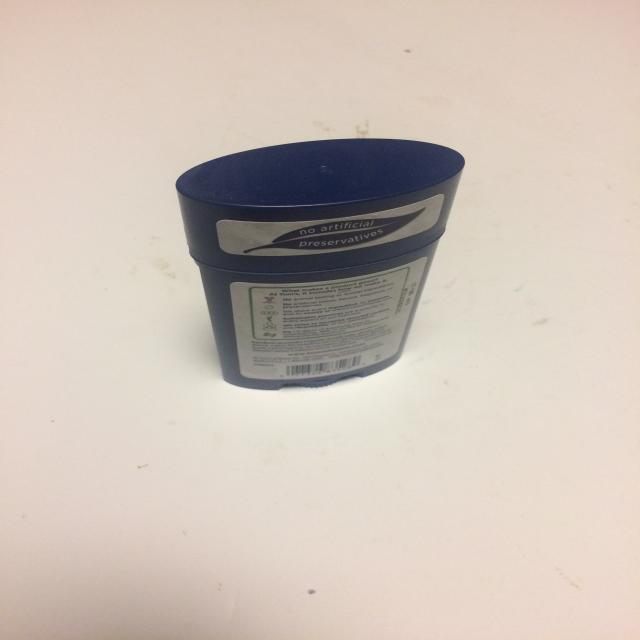trash: (174, 137, 466, 390)
